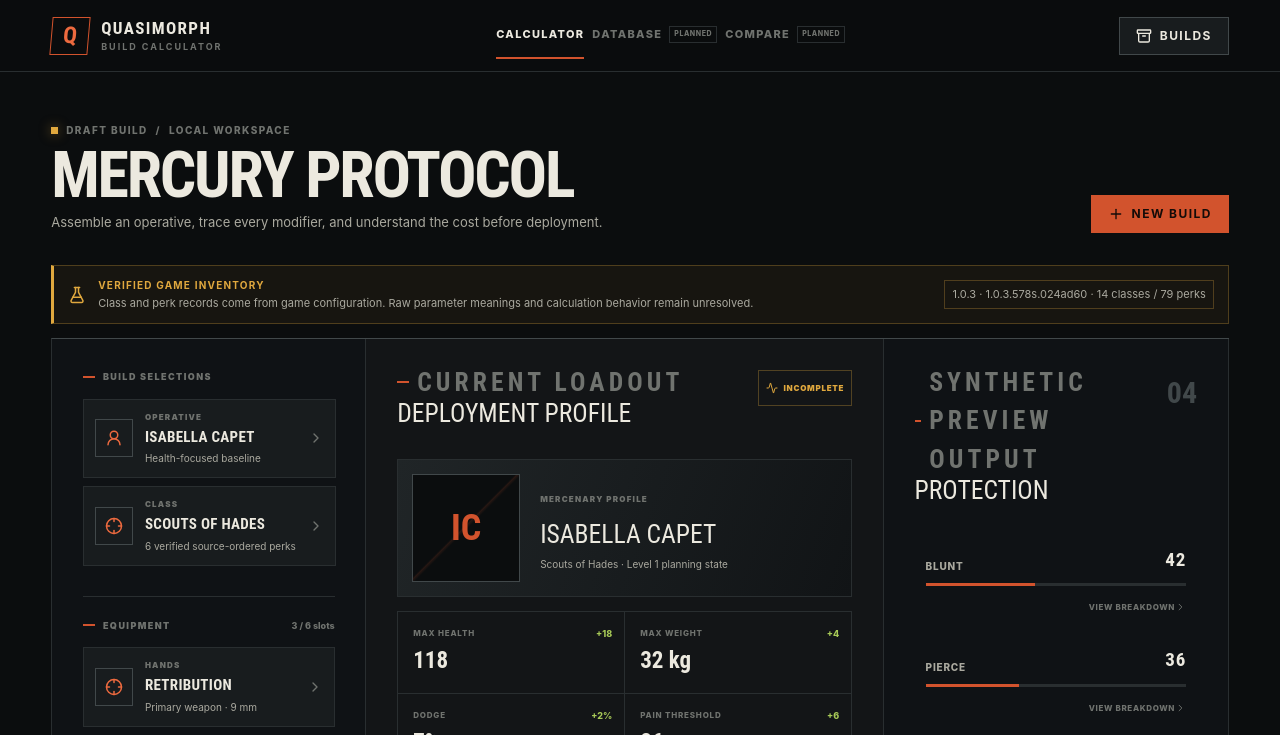
Scenario: application foundation › filters and selects a verified class
Click the button "Class Scouts of Hades 6 verified source-ordered perks".
click(209, 526)  # box [83, 486, 336, 566]
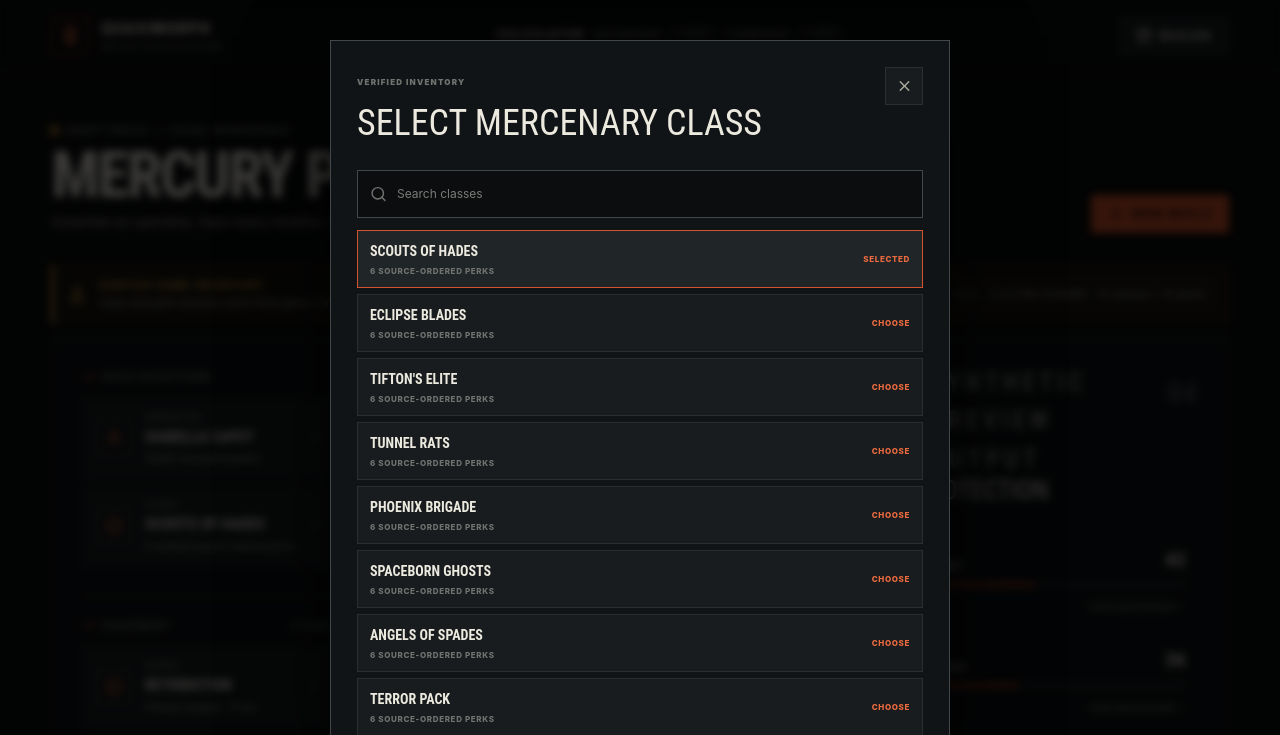
Type "angel" into the search field labelled "Search classes".
click(654, 194); type("angel")  # box [397, 171, 910, 217]
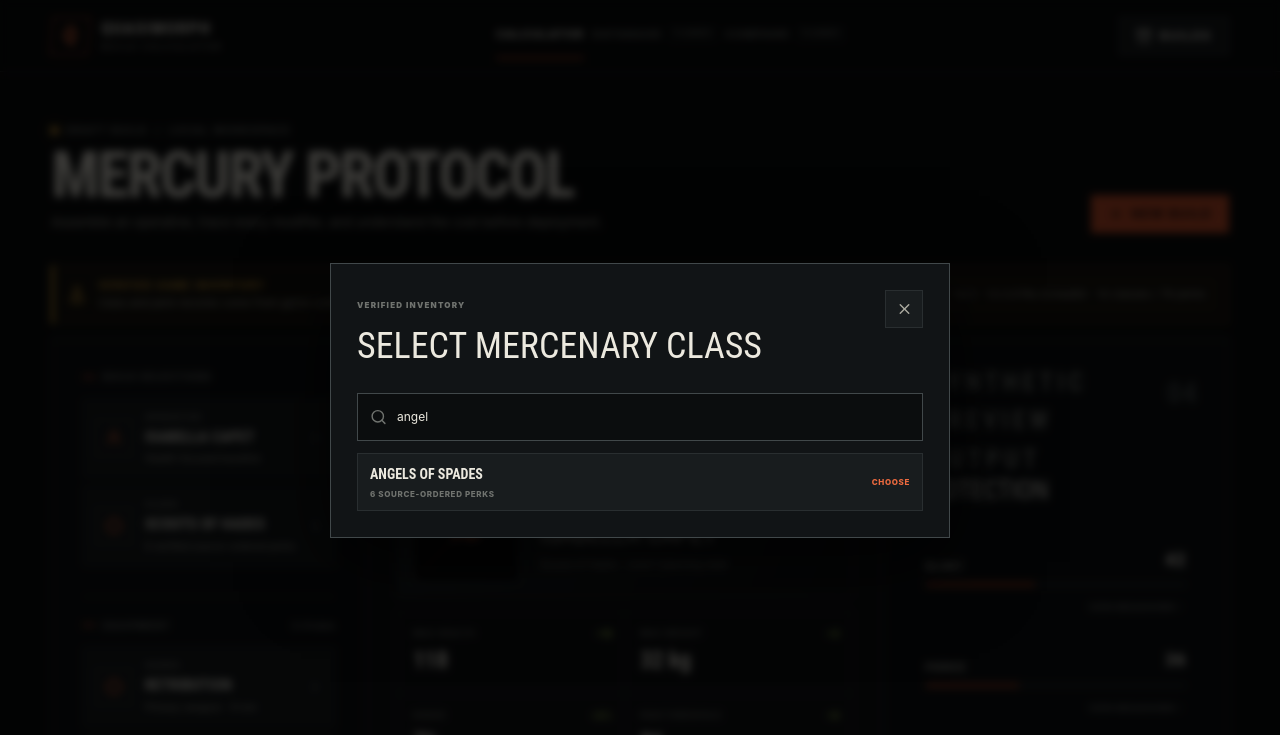
Check: the button "Angels of Spades 6 source-ordered perks Choose" is shown
Click the button "Angels of Spades 6 source-ordered perks Choose".
click(426, 474)  # box [357, 452, 923, 510]
(page scrolled)
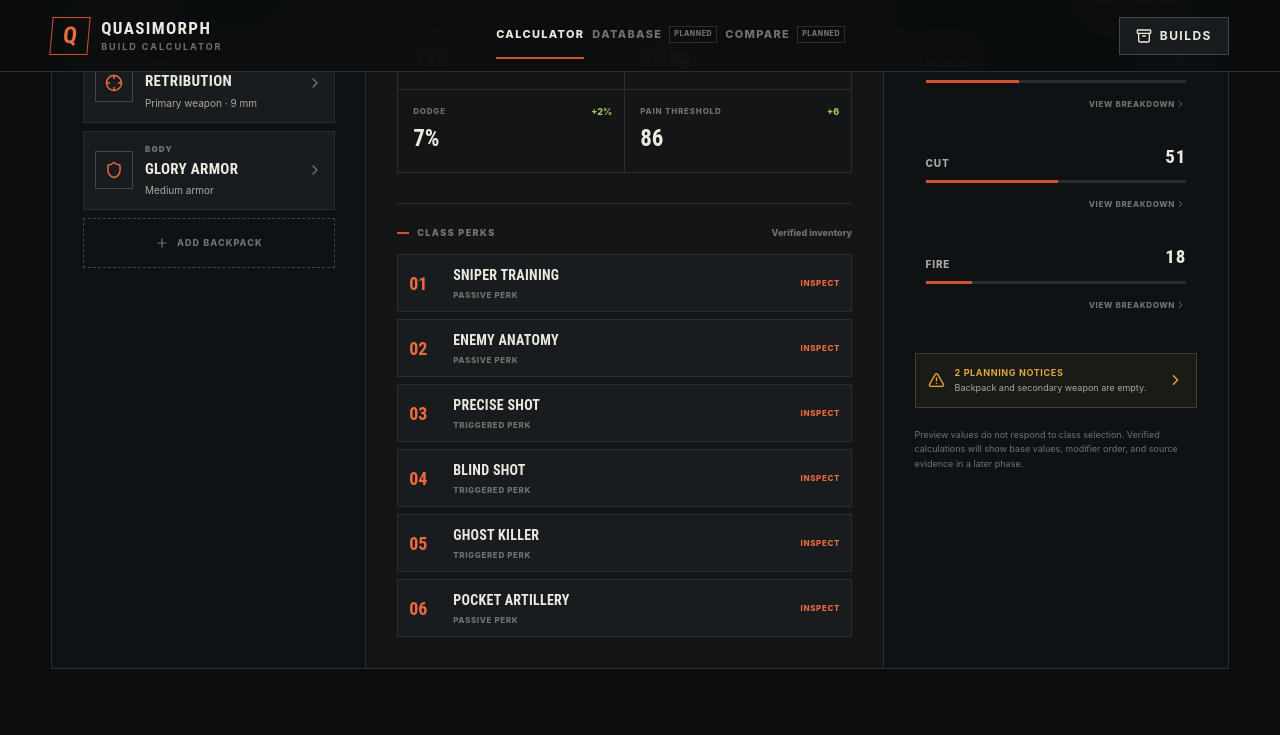
Check: the dialog is gone
Check: the text "Ghost Killer" is shown, box [453, 527, 539, 543]
